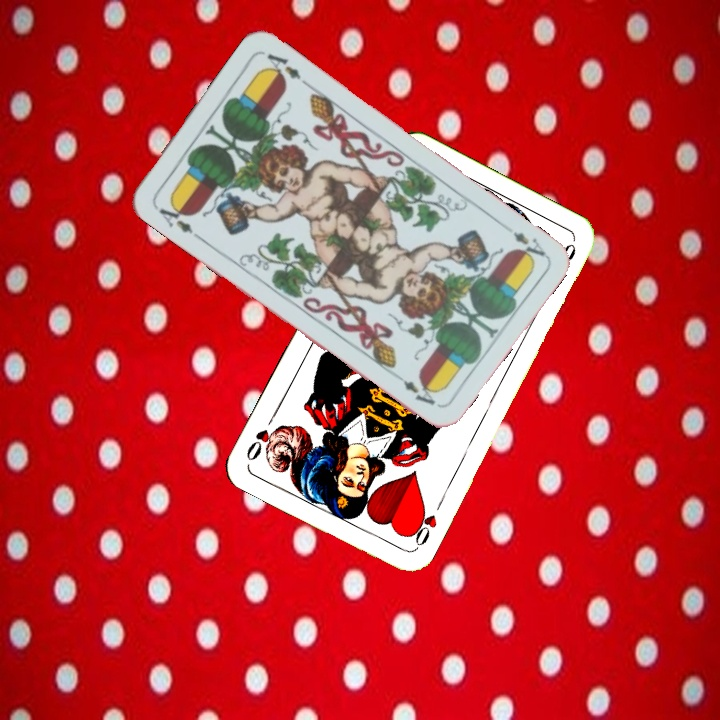EA: (151, 197, 203, 241), (509, 227, 548, 266)
HO: (404, 502, 440, 552)
